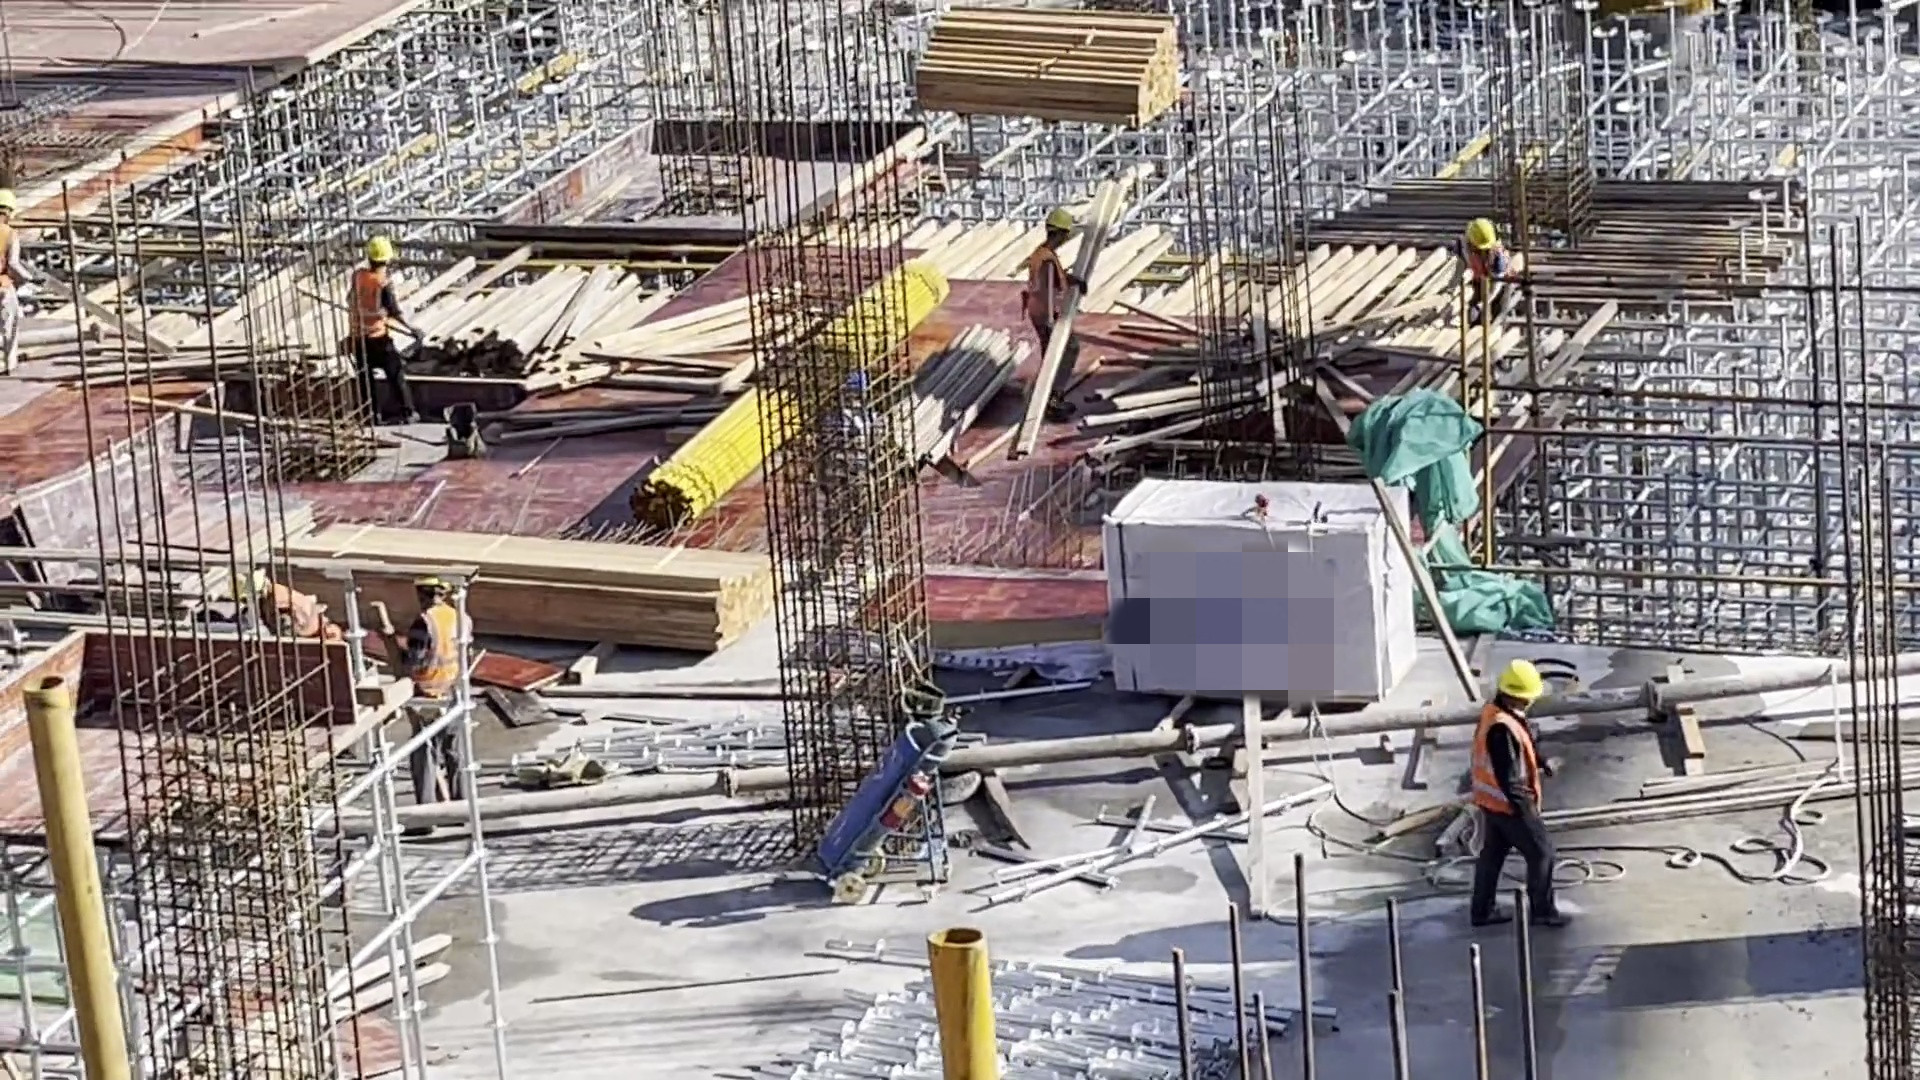helmet: (1493, 660, 1541, 702), (1042, 204, 1076, 238), (365, 236, 399, 263), (1467, 222, 1498, 249)
person: (1450, 657, 1567, 931), (381, 566, 480, 798), (804, 370, 885, 602), (1020, 199, 1086, 409), (343, 237, 403, 420), (237, 571, 340, 641), (1463, 213, 1509, 300)
scaffold: (746, 943, 1312, 1080)
vest: (1469, 707, 1542, 836), (406, 605, 468, 695), (343, 266, 387, 347), (265, 588, 337, 636), (1023, 250, 1064, 332)
wood: (414, 262, 754, 407), (471, 534, 775, 673), (913, 2, 1191, 134)
